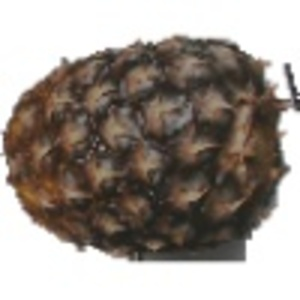abacaxi: (1, 33, 278, 251)
